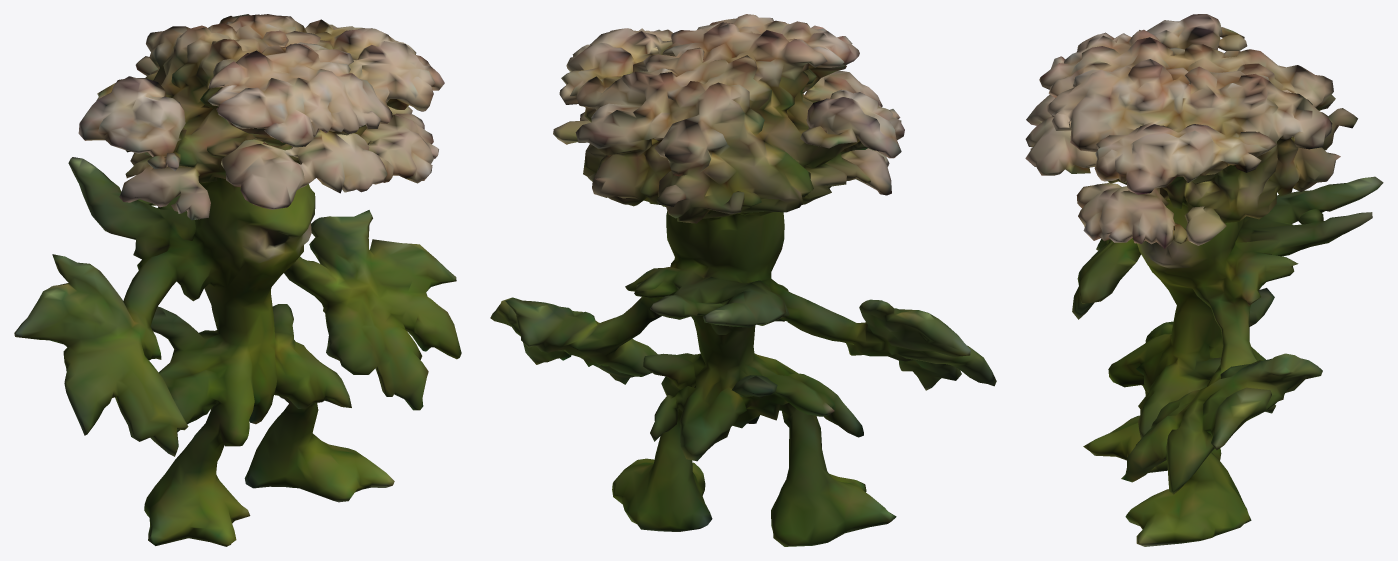
File: hogweed.glb
The picture shows the model from 3 angles, left to right: view 1: azimuth 30°, elevation 25°; view 2: azimuth 150°, elevation 25°; view 3: azimuth 270°, elevation 25°; orthographic projection. The views are drawn at different scales.
Parts seen in each view (by area): view 1: hogweed; view 2: hogweed; view 3: hogweed.
Boxes of the visible parts, left/top/right/bottom form: hogweed: left=14, top=14, right=461, bottom=546; hogweed: left=490, top=14, right=996, bottom=546; hogweed: left=1025, top=14, right=1383, bottom=546.
Bounding box in the file's own units: 1.22 × 1.2 × 0.8661.
